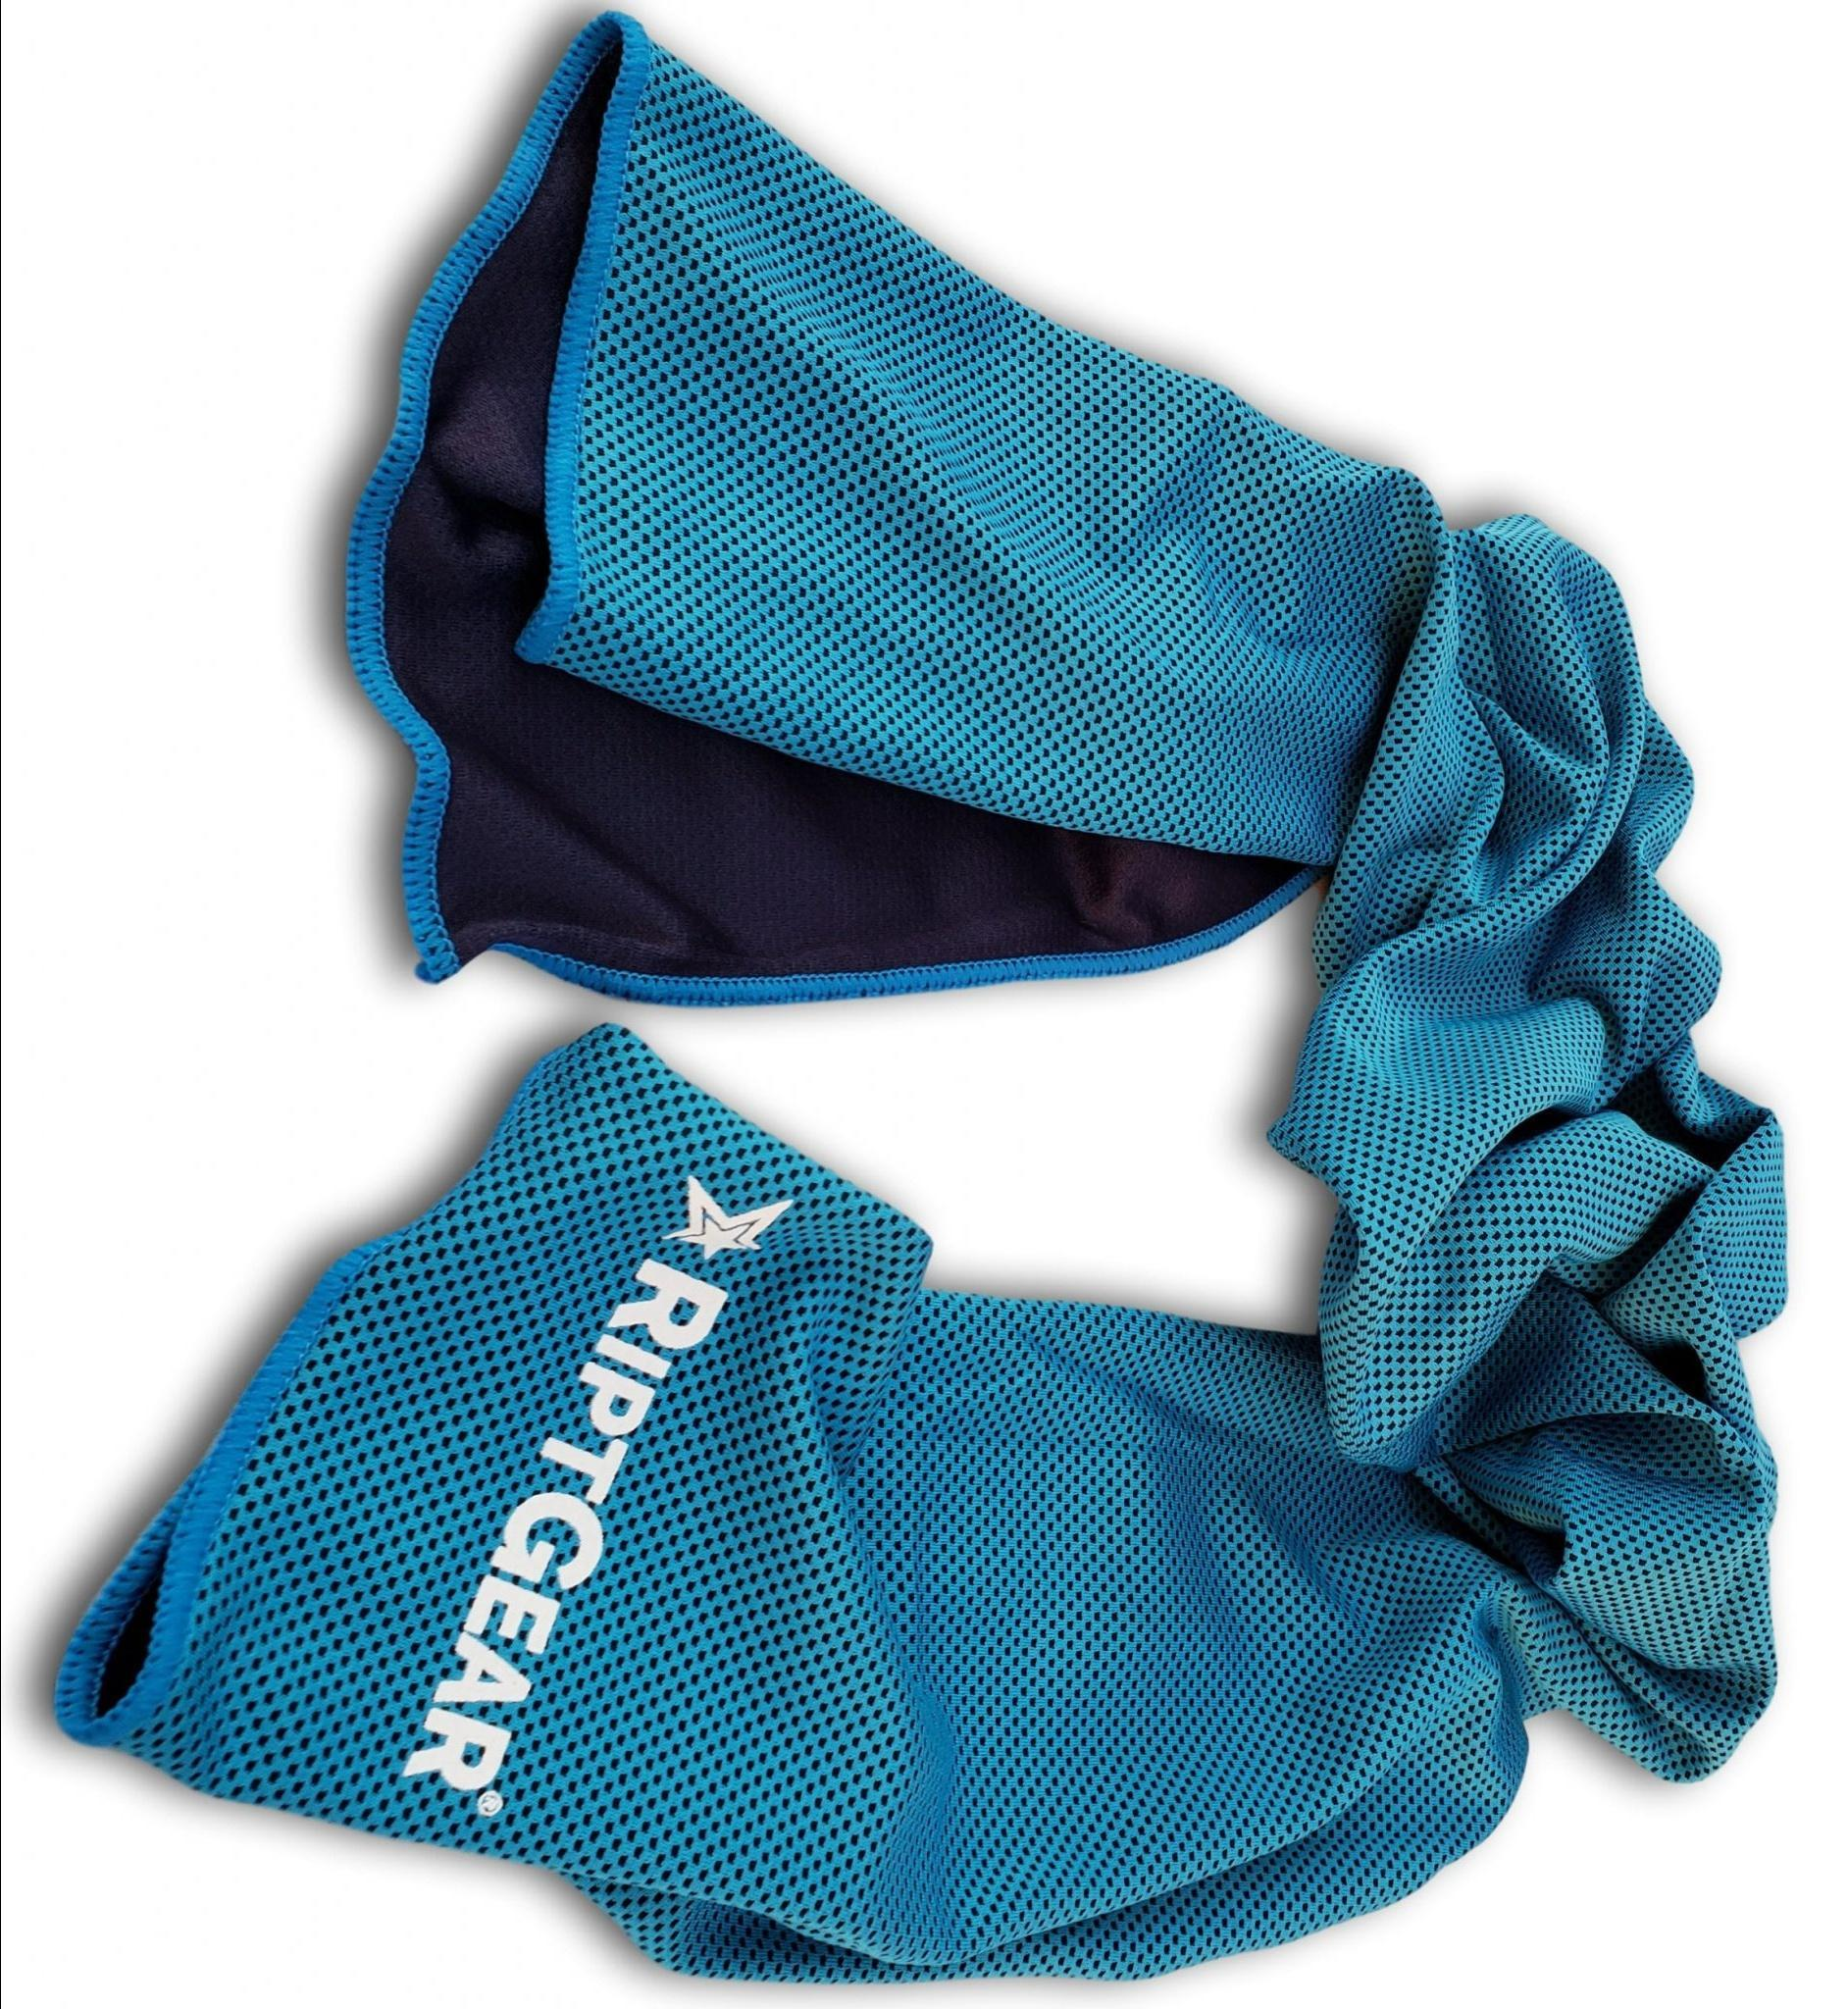towel: (30, 5, 1848, 2009)
